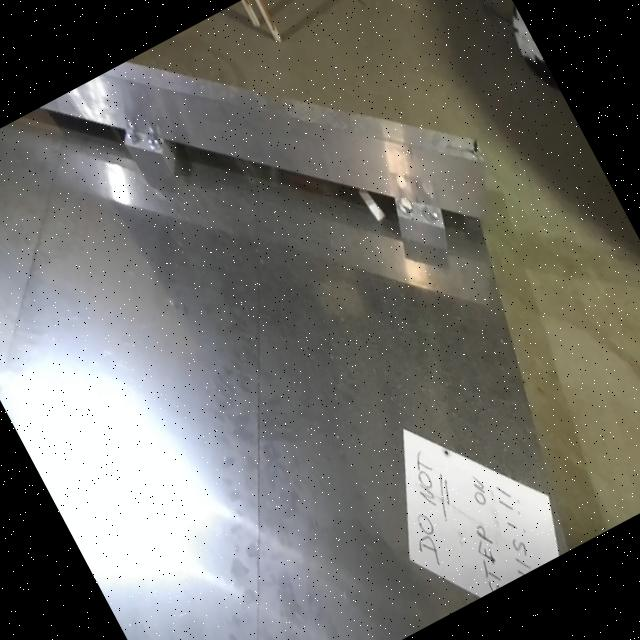blocks: (351, 150, 490, 292), (96, 66, 214, 200)
